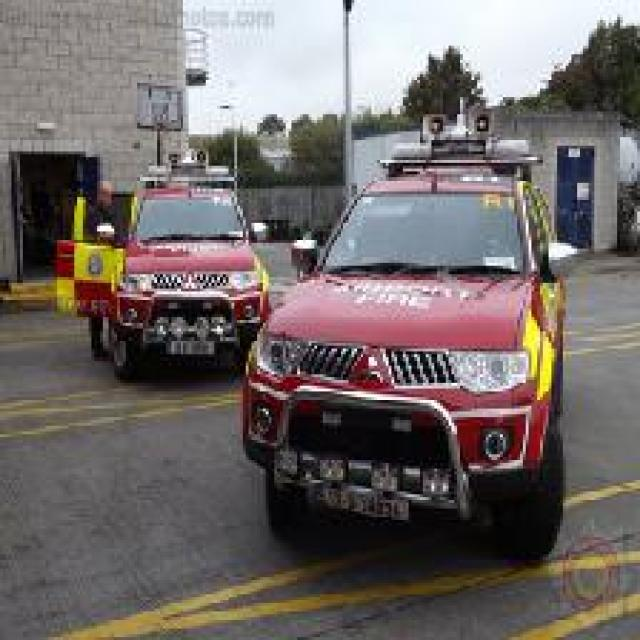Fire-truck: (237, 100, 572, 560), (55, 146, 272, 380)
